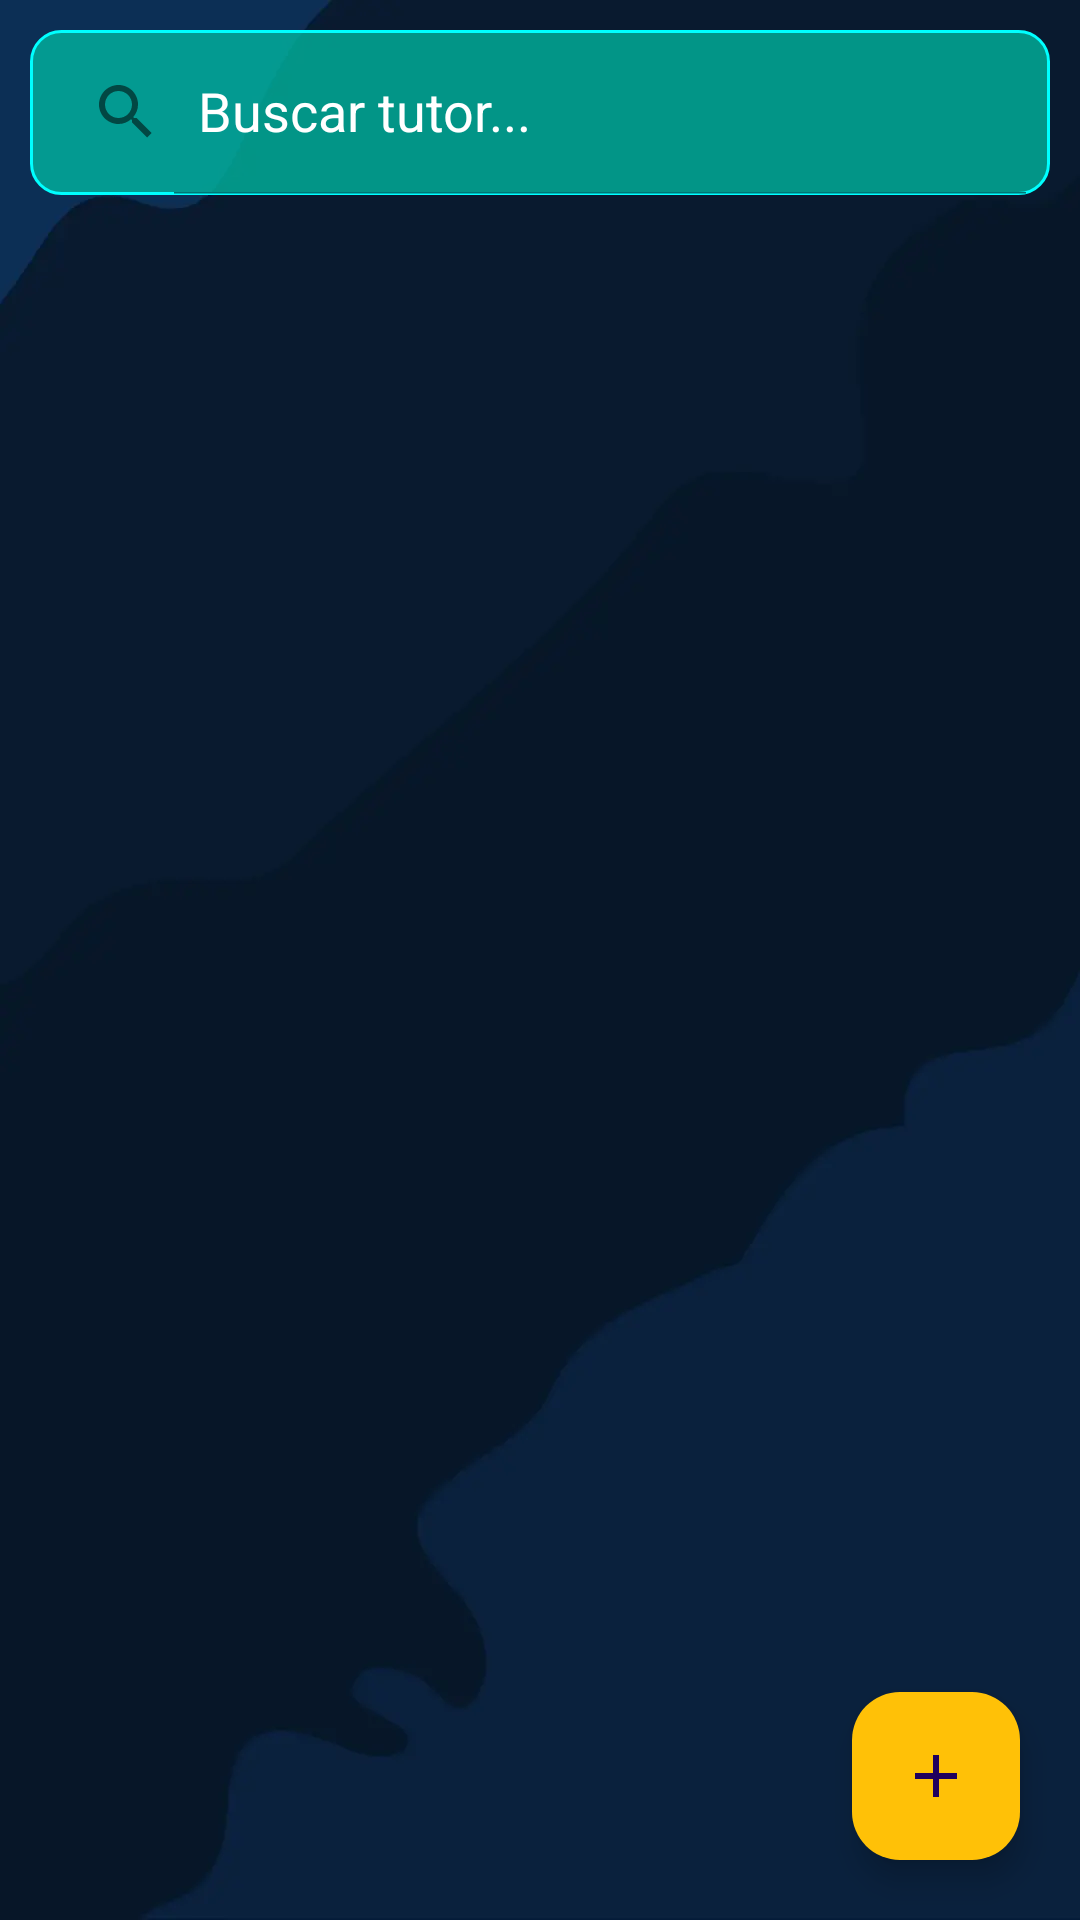

Icons on this 1080*1920 Android screen, each with its box as (x1, y1, x2, y2):
add student: (852, 1692, 1020, 1860)
